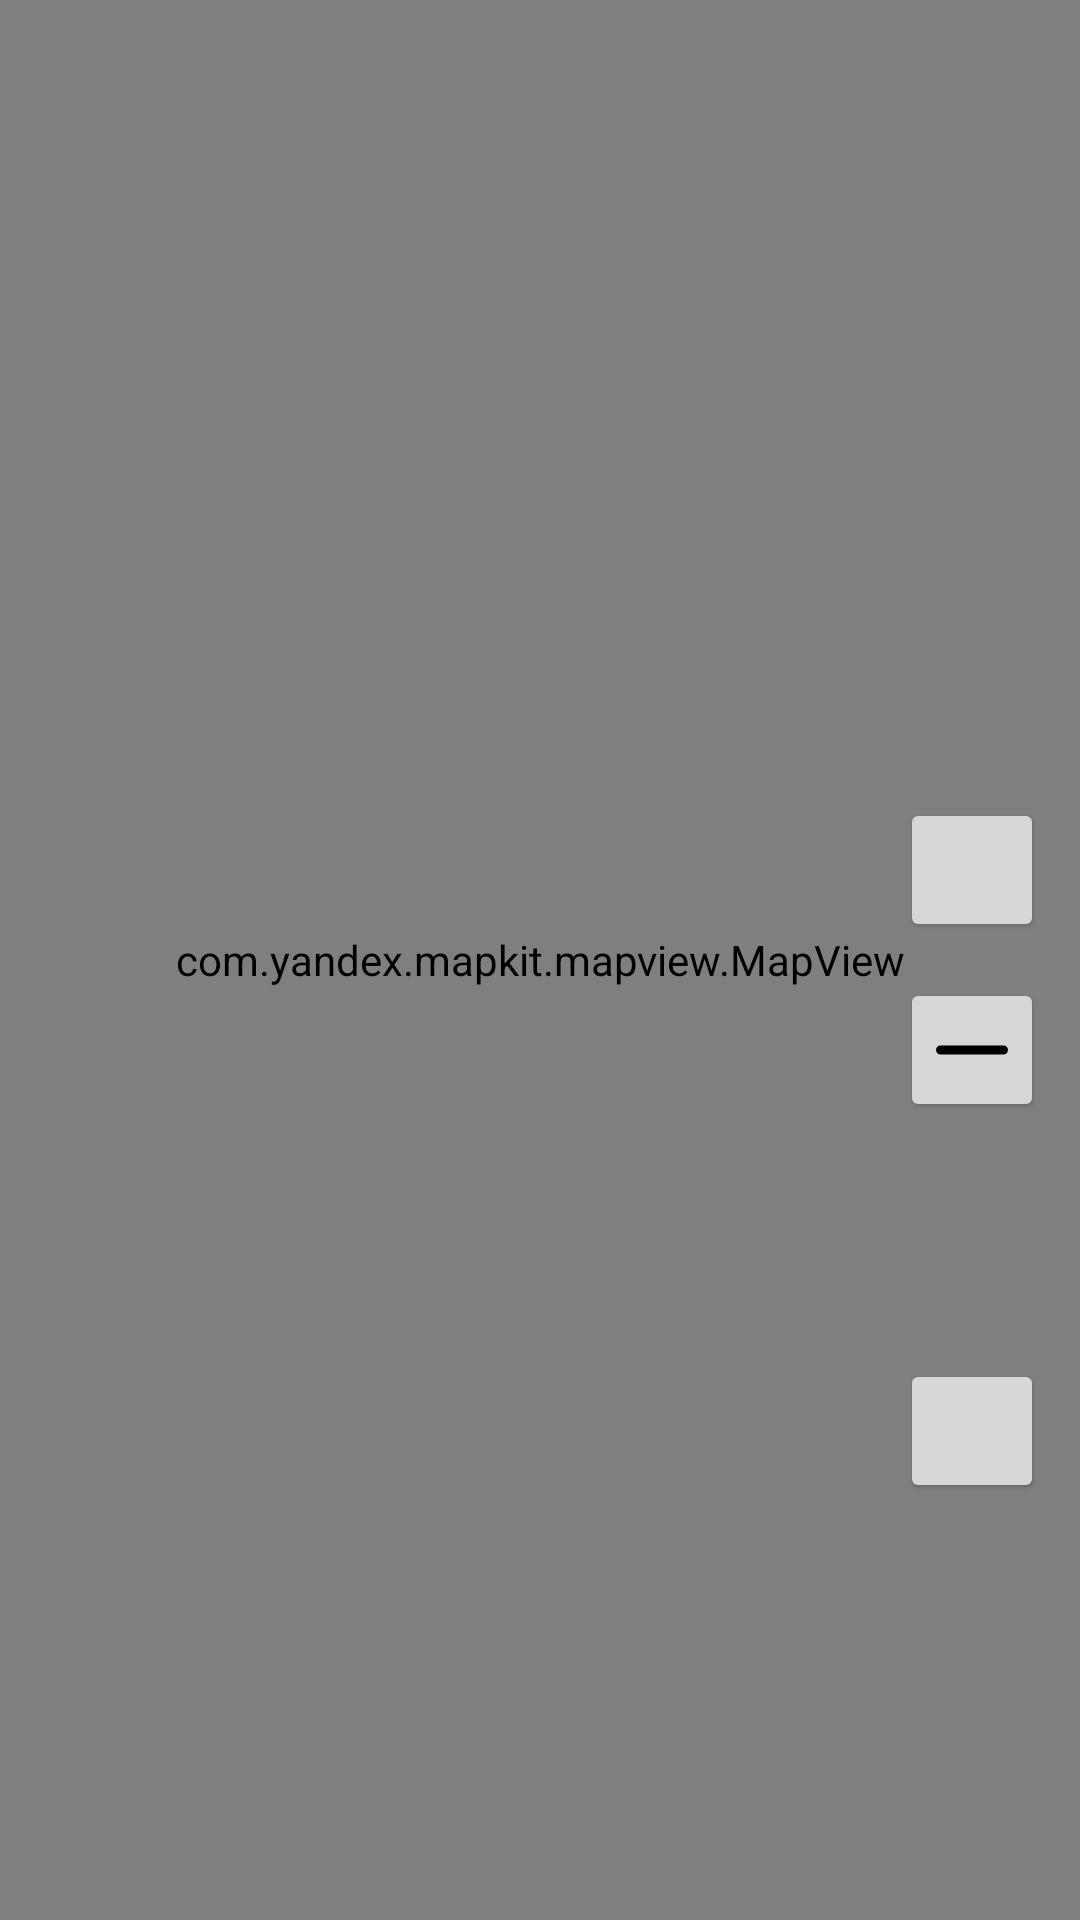

Screen size 1080×1920. Icon name, then its center in pixels as [x,y]:
minus: [972,1050]
